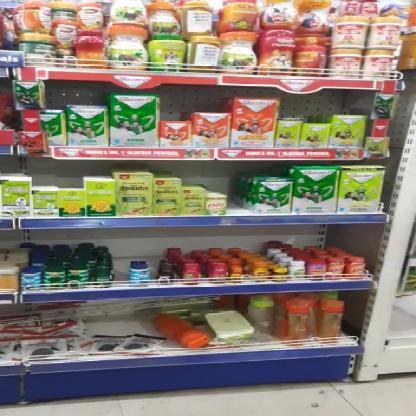Glucon D Nimbu Pani 1-KG: (340, 168, 382, 214), (334, 117, 366, 150)
Glucon D Regular 1-KG: (108, 96, 156, 148)
Glucon D Tangy orange 1-KG: (233, 98, 278, 148)
